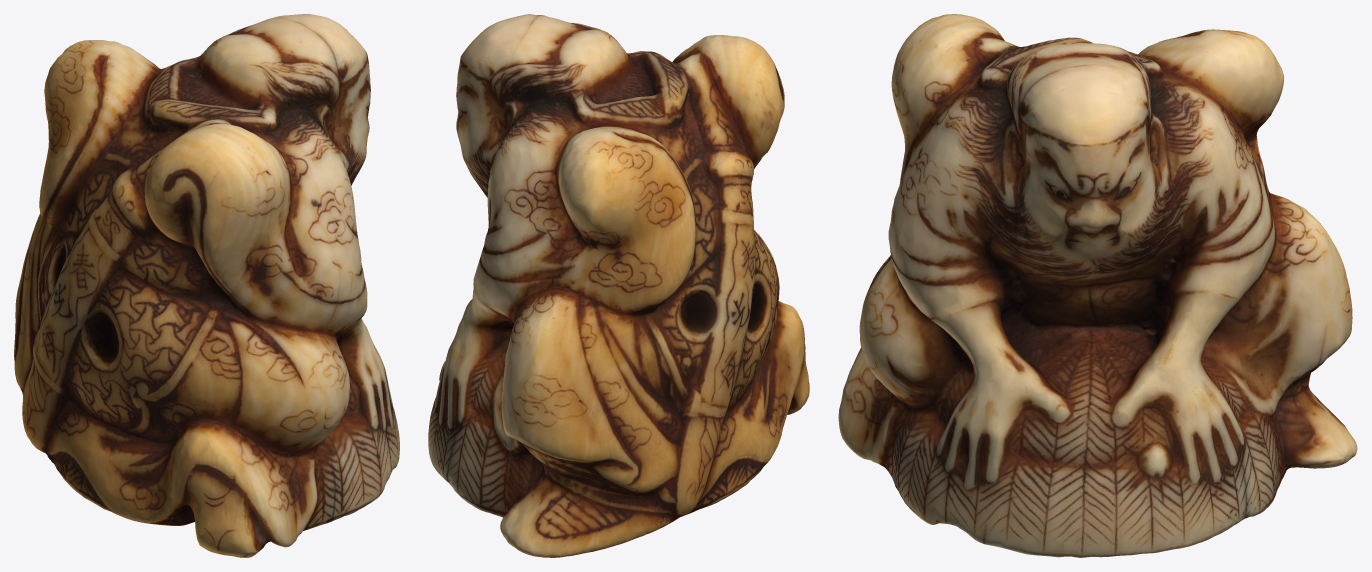
Rendered from shakoki.glb.
3 views of the same model, side by side, from view 1: azimuth 30°, elevation 25°; view 2: azimuth 150°, elevation 25°; view 3: azimuth 270°, elevation 25° (orthographic). The views are drawn at different scales.
Visible parts, largest first — view 1: Object_2; view 2: Object_2; view 3: Object_2.
Part boxes in pixels (bbox=[...]): Object_2: bbox=[14, 14, 399, 557]; Object_2: bbox=[428, 14, 809, 557]; Object_2: bbox=[838, 14, 1357, 557].
Bounding box in the file's own units: 0.254 × 0.3364 × 0.3456.
1 material, 1 textured.
